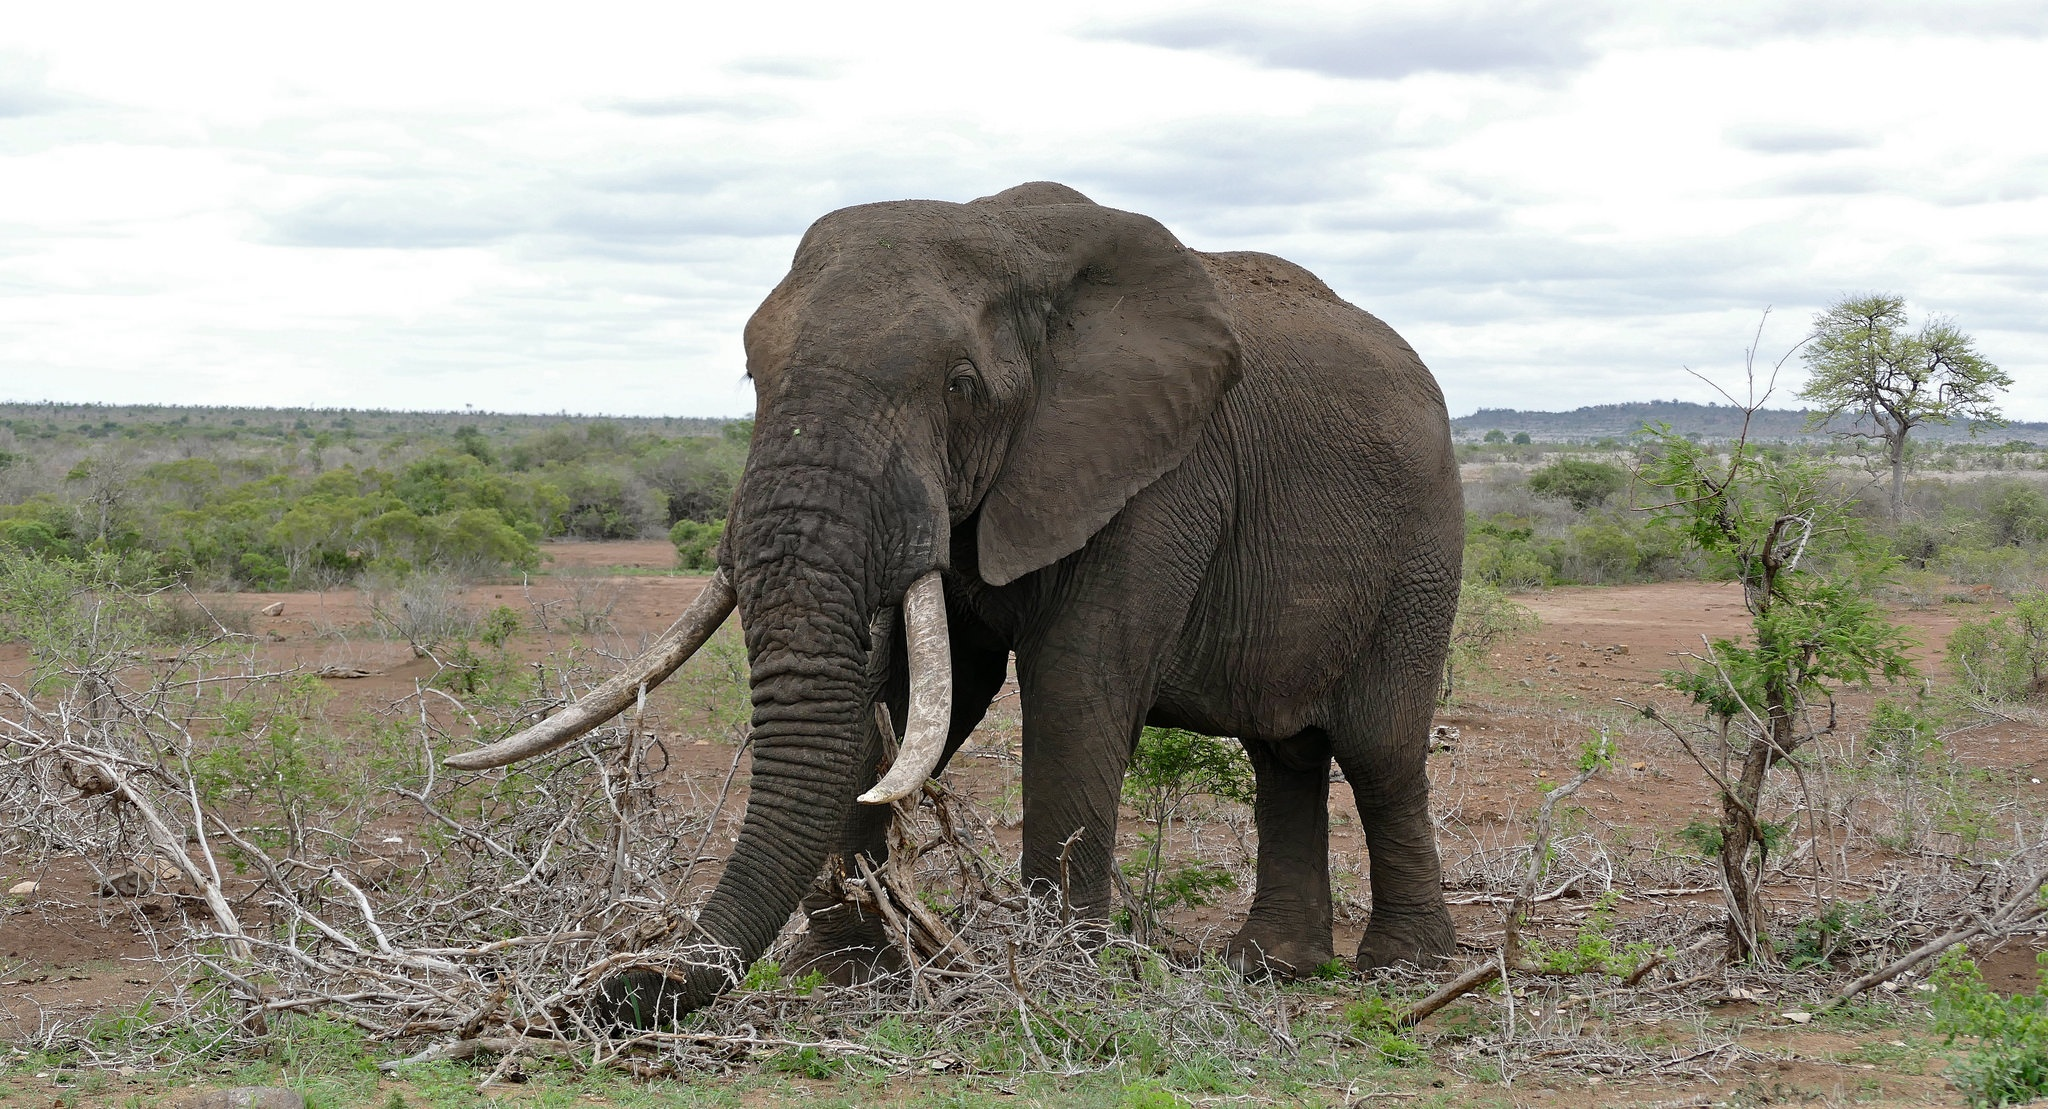elephant: (438, 176, 1470, 1013)
